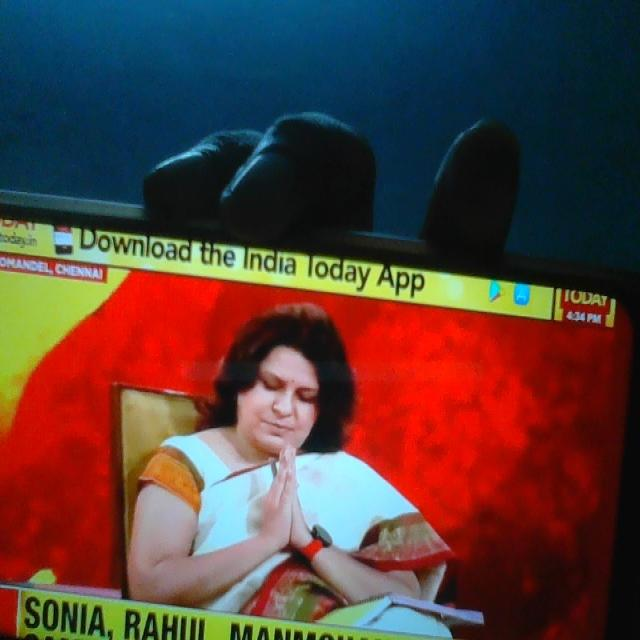fake: (227, 311, 330, 505)
